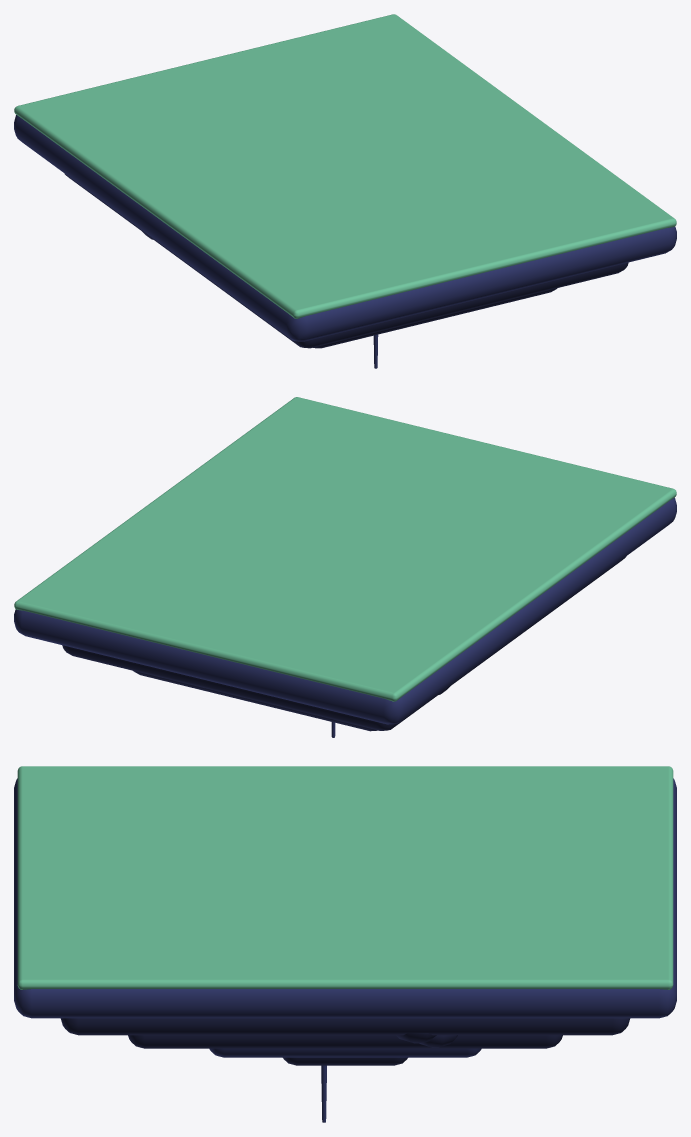
The model's file is island_v2.glb.
The picture shows the model from 3 angles, top to bottom: view 1: azimuth 30°, elevation 25°; view 2: azimuth 150°, elevation 25°; view 3: azimuth 270°, elevation 25°; orthographic projection. The views are drawn at different scales.
Visible parts, largest first — view 1: Cube; view 2: Cube; view 3: Cube.
Part boxes in pixels (bbox=[...]): Cube: bbox=[14, 14, 676, 368]; Cube: bbox=[14, 397, 676, 737]; Cube: bbox=[14, 766, 676, 1122].
Bounding box in the file's own units: 7.32 × 3.68 × 9.32.
